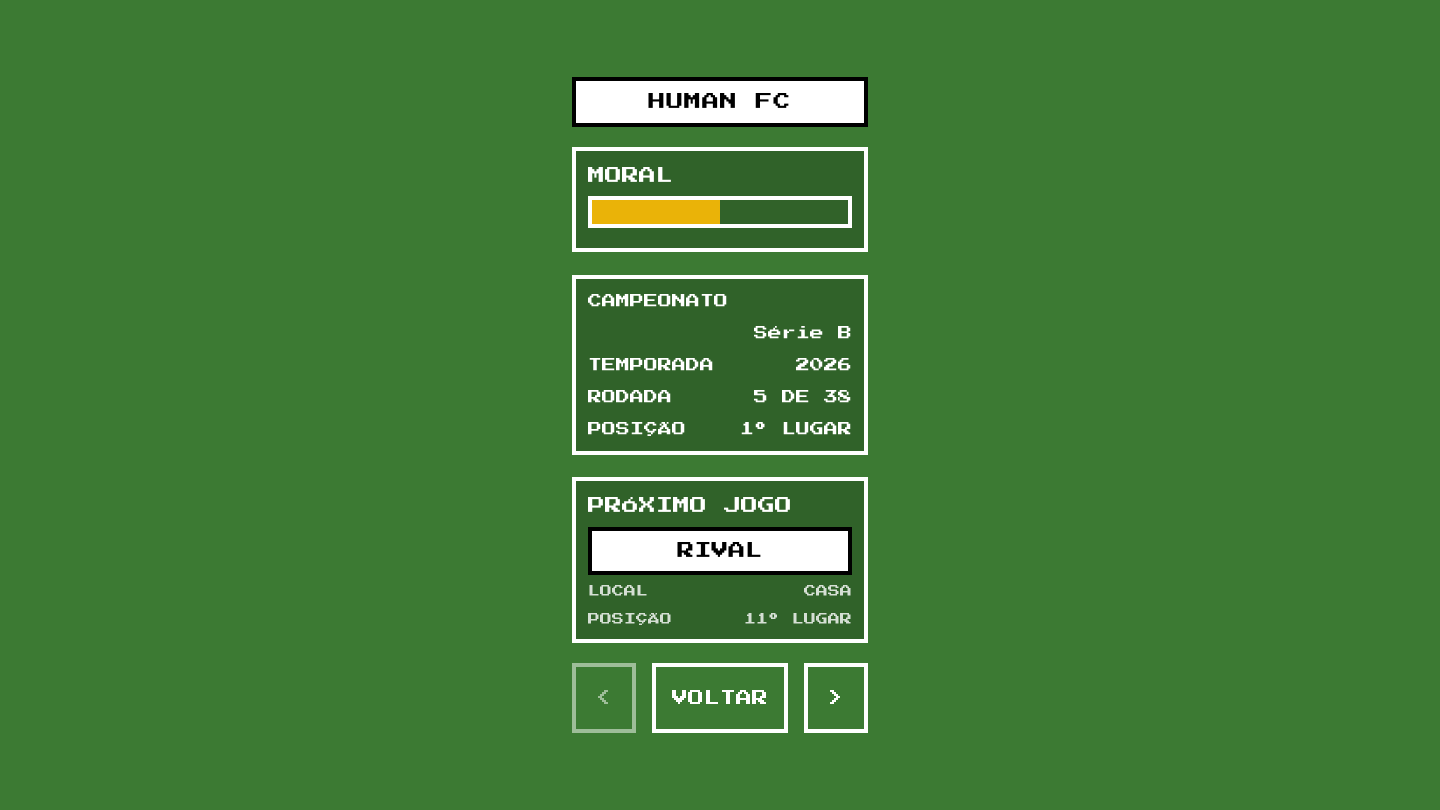
Test case: TeamAdditionalInfo › renders every label in Brazilian Portuguese
The width and height of the screenshot is (1440, 810).
Expected: the text "MORAL" is shown, [588,167,673,184]
Expected: the text "CAMPEONATO" is shown, [588,294,728,308]
What coordinates should you click on to do the following:
click the button ">"
I would click on:
 (836, 698)
Its box is [804,663,868,733].
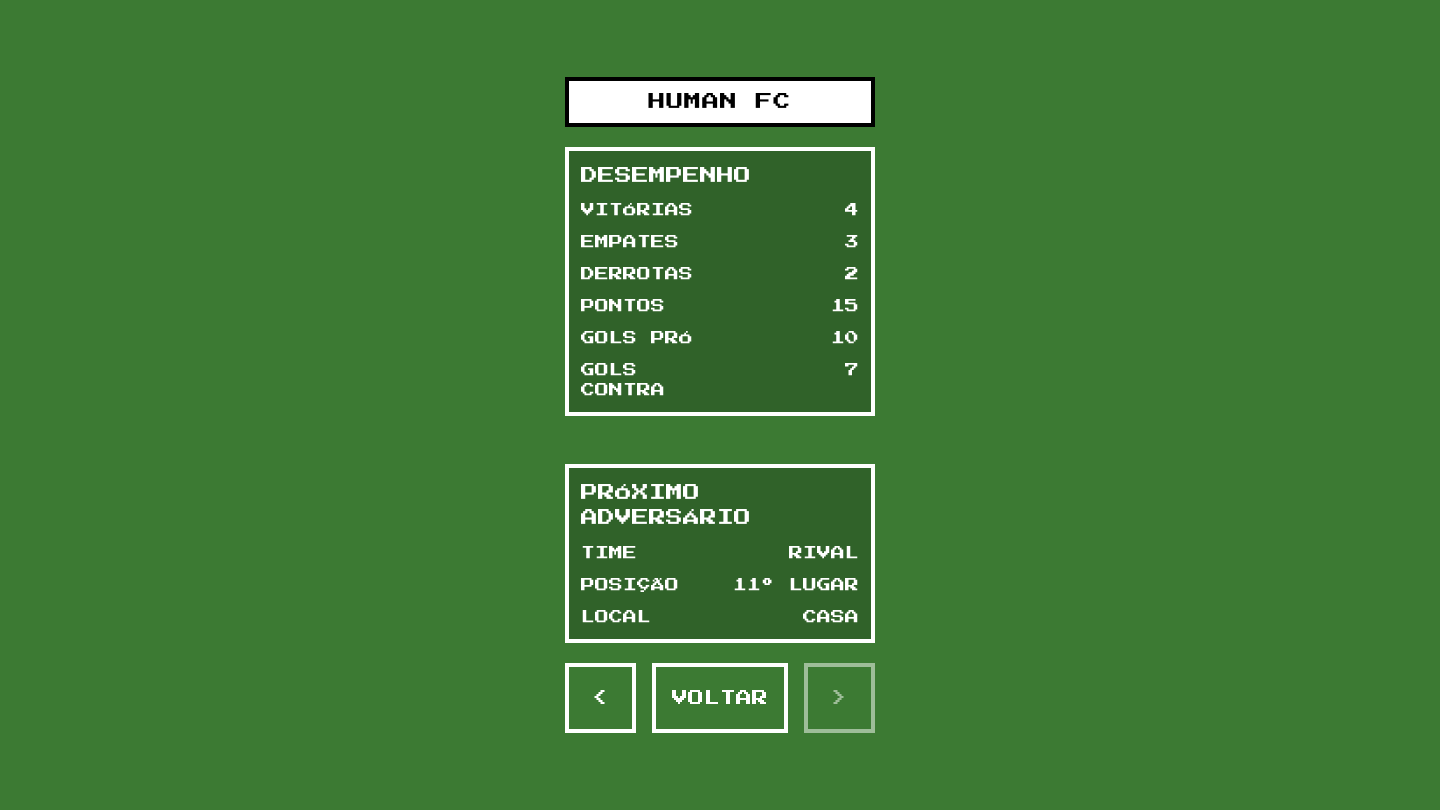
Now the text "DESEMPENHO" is shown, box [581,167,751,184]
Now the text "VITÓRIAS" is shown, box [581,203,693,217]
Now the text "EMPATES" is shown, box [581,235,679,249]
